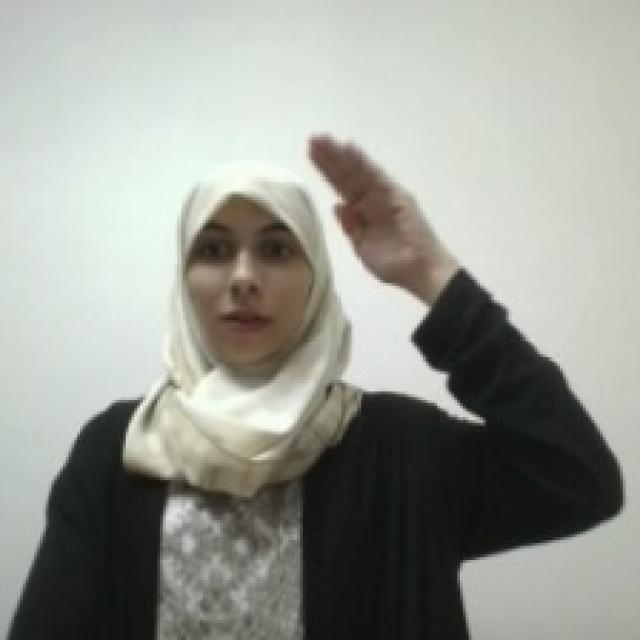Thanks: (304, 125, 435, 285)
